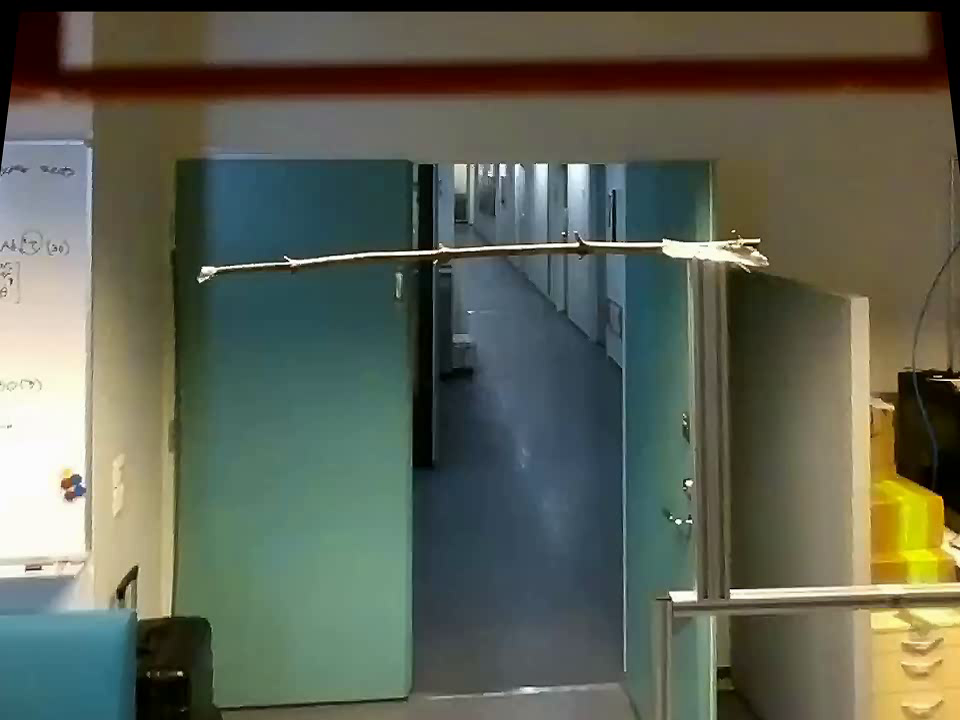aluminum_frame: (680, 258, 746, 589), (78, 129, 103, 556), (669, 578, 958, 610), (644, 582, 677, 719), (0, 550, 98, 581), (1, 137, 91, 154)
branch: (219, 223, 659, 284)
